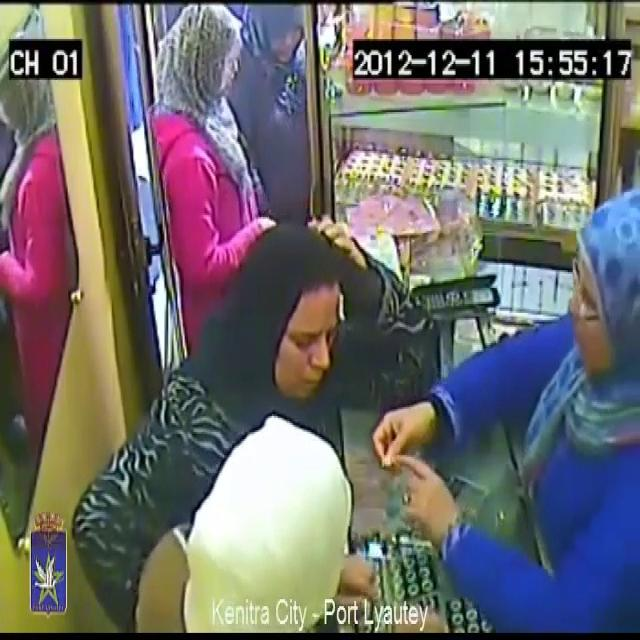Product: (260, 192, 282, 231), (383, 423, 401, 468)
normal: (139, 404, 407, 640), (247, 195, 378, 412), (228, 0, 314, 192)
shoplifting: (411, 199, 640, 640), (149, 7, 303, 274)
